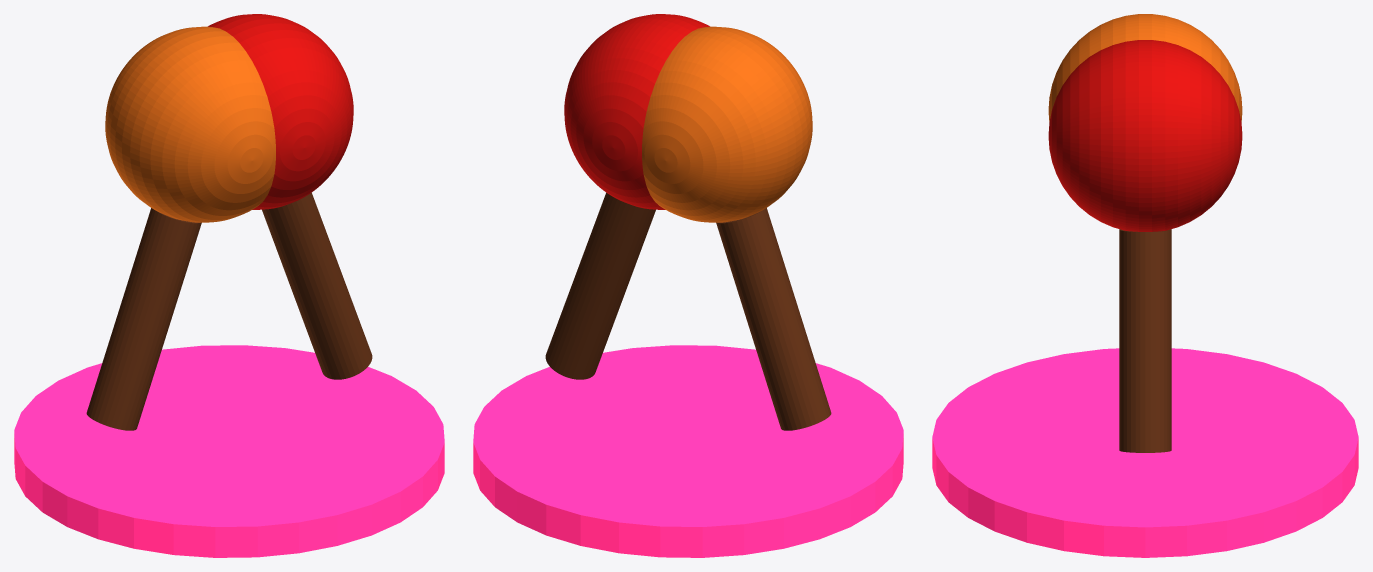
Rendered from music_maracas.dae.
The picture shows the model from 3 angles, left to right: view 1: azimuth 30°, elevation 25°; view 2: azimuth 150°, elevation 25°; view 3: azimuth 270°, elevation 25°; orthographic projection.
Visible parts, largest first — view 1: 07_16_Popular_Music_Maracas_ROOT_base, 07_16_Popular_Music_Maracas_part_02, 07_16_Popular_Music_Maracas_part_04, 07_16_Popular_Music_Maracas_part_01, 07_16_Popular_Music_Maracas_part_03; view 2: 07_16_Popular_Music_Maracas_ROOT_base, 07_16_Popular_Music_Maracas_part_02, 07_16_Popular_Music_Maracas_part_04, 07_16_Popular_Music_Maracas_part_01, 07_16_Popular_Music_Maracas_part_03; view 3: 07_16_Popular_Music_Maracas_ROOT_base, 07_16_Popular_Music_Maracas_part_04, 07_16_Popular_Music_Maracas_part_03, 07_16_Popular_Music_Maracas_part_02.
Part boxes in pixels (x1=…): 07_16_Popular_Music_Maracas_ROOT_base: x1=14, y1=345, x2=444, y2=557; 07_16_Popular_Music_Maracas_part_02: x1=105, y1=26, x2=275, y2=222; 07_16_Popular_Music_Maracas_part_04: x1=208, y1=14, x2=353, y2=209; 07_16_Popular_Music_Maracas_part_01: x1=86, y1=208, x2=201, y2=430; 07_16_Popular_Music_Maracas_part_03: x1=262, y1=192, x2=372, y2=379; 07_16_Popular_Music_Maracas_ROOT_base: x1=473, y1=345, x2=903, y2=557; 07_16_Popular_Music_Maracas_part_02: x1=642, y1=26, x2=812, y2=222; 07_16_Popular_Music_Maracas_part_04: x1=564, y1=14, x2=709, y2=209; 07_16_Popular_Music_Maracas_part_01: x1=716, y1=208, x2=831, y2=430; 07_16_Popular_Music_Maracas_part_03: x1=545, y1=192, x2=655, y2=379; 07_16_Popular_Music_Maracas_ROOT_base: x1=932, y1=348, x2=1358, y2=557; 07_16_Popular_Music_Maracas_part_04: x1=1048, y1=40, x2=1242, y2=231; 07_16_Popular_Music_Maracas_part_03: x1=1119, y1=229, x2=1171, y2=452; 07_16_Popular_Music_Maracas_part_02: x1=1048, y1=14, x2=1242, y2=121.
Size of the model in its own units: 0.76 by 0.85 by 0.76.
